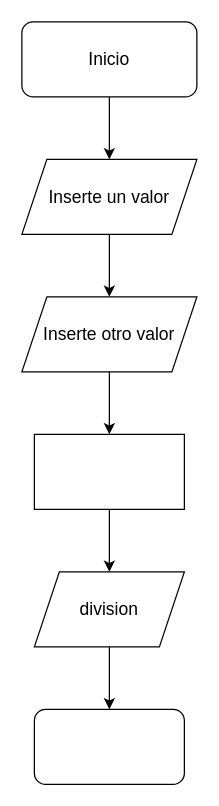
This 219x806 diagram has some shape labels left out. The box of each missing label's shape, as (x1, y1, x2, y2) in pixels:
division = n1 / n2: (33, 433, 184, 509)
Fin: (33, 708, 184, 784)
